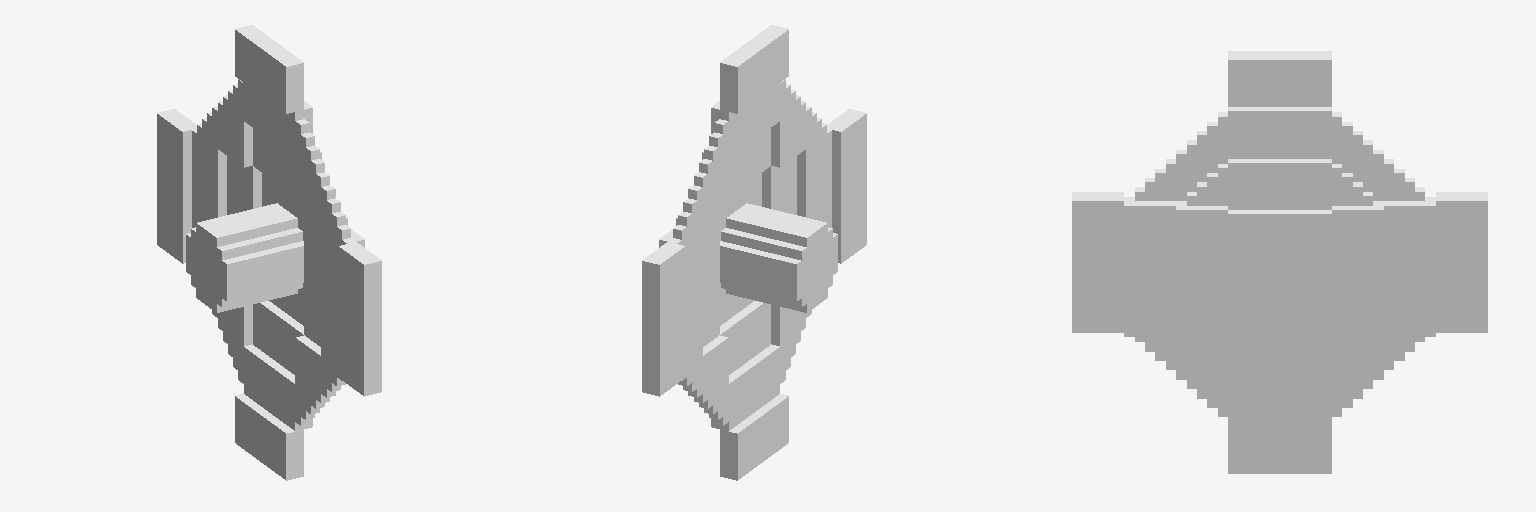
File: enemy12_shield.obj
The picture shows the model from 3 angles: view 1: azimuth 30°, elevation 25°; view 2: azimuth 150°, elevation 25°; view 3: azimuth 270°, elevation 25°; orthographic projection.
Size of the model in its own units: 11 by 44 by 40.